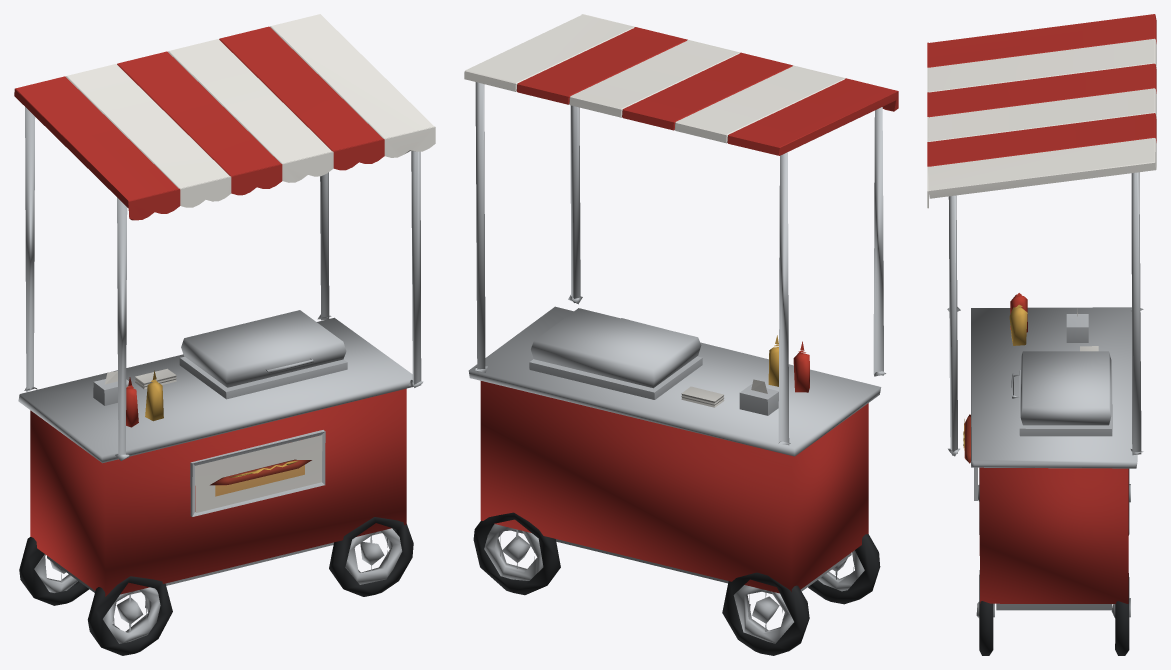
File: hotDogStand.far.glb
3 views of the same model, side by side, from view 1: azimuth 30°, elevation 25°; view 2: azimuth 150°, elevation 25°; view 3: azimuth 270°, elevation 25° (orthographic). The views are drawn at different scales.
Visible parts, largest first — view 1: hotDogStand_far; view 2: hotDogStand_far; view 3: hotDogStand_far.
Part boxes in pixels (x1,y1,x2,y2): hotDogStand_far: (14, 14, 435, 655); hotDogStand_far: (464, 14, 898, 655); hotDogStand_far: (927, 14, 1156, 655).
Size of the model in its own units: 1.58 by 2.38 by 0.9795.
